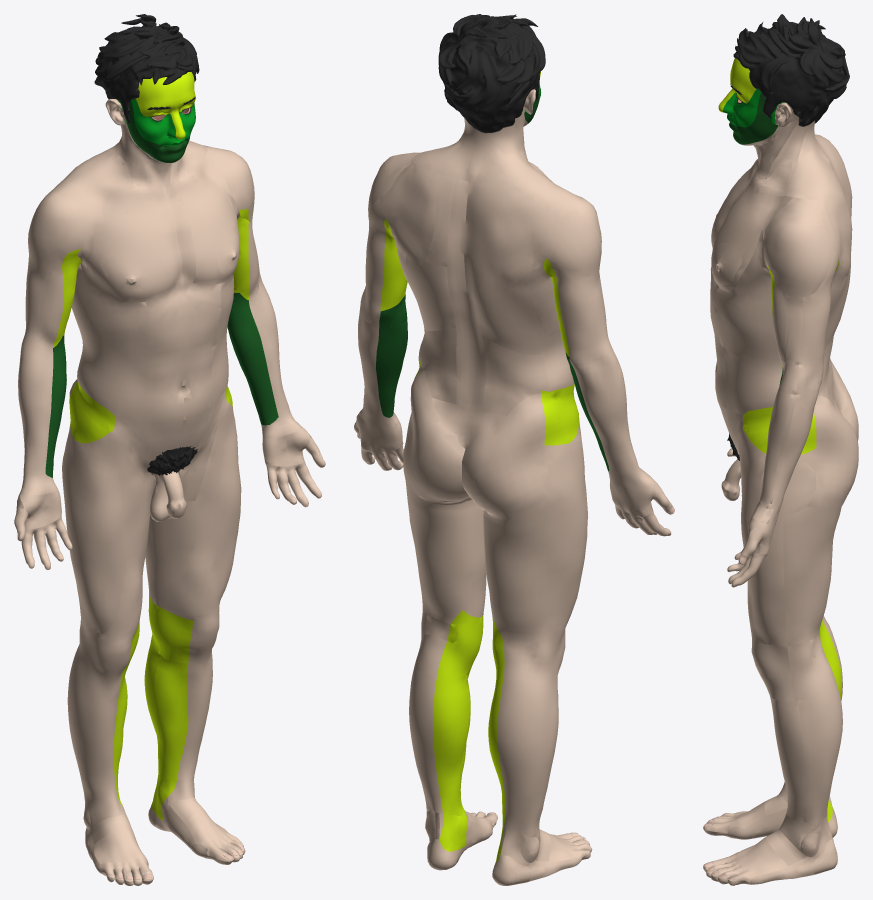
File: regions.glb
3 views of the same model, side by side, from view 1: azimuth 30°, elevation 25°; view 2: azimuth 150°, elevation 25°; view 3: azimuth 270°, elevation 25° (orthographic). The views are drawn at different scales.
Parts seen in each view (by area): view 1: Anterior region of thigh.r, Anterior region of thigh.l, Hairs of head, Anterior region of leg.l, Anterior region of leg.r, Pectoral region.r, Deltoid region.r, Anterior region of forearm.l, Anterior region of forearm.r, Lateral region of thorax.r, Lateral region of abdomen.r, Pectoral region.l (+46 smaller); view 2: Posterior region of thigh.r, Hairs of head, Gluteal region.r, Posterior region of thigh.l, Posterior region of leg.r, Posterior region of leg.l, Gluteal region.l, Scapular region.r, Posterior region of arm.r, Infrascapular region.r, Scapular region.l, Posterior region of forearm.r (+32 smaller); view 3: Hairs of head, Anterior region of thigh.l, Posterior region of thigh.l, Deltoid region.l, Gluteal region.l, Posterior region of leg.l, Lateral region of thorax.l, Anterior region of leg.l, Lateral region of abdomen.l, Pectoral region.l, Posterior region of arm.l, Posterior region of neck.l (+45 smaller).
Part boxes in pixels (<box>): Anterior region of thigh.r: <box>69,382,154,636</box>; Anterior region of thigh.l: <box>150,383,241,615</box>; Hairs of head: <box>94,14,199,123</box>; Anterior region of leg.l: <box>153,654,212,780</box>; Anterior region of leg.r: <box>74,674,127,799</box>; Pectoral region.r: <box>94,205,174,302</box>; Deltoid region.r: <box>28,174,90,271</box>; Anterior region of forearm.l: <box>228,304,292,425</box>; Anterior region of forearm.r: <box>22,360,66,481</box>; Lateral region of thorax.r: <box>71,225,147,333</box>; Lateral region of abdomen.r: <box>77,342,147,422</box>; Pectoral region.l: <box>183,179,238,284</box>; Posterior region of thigh.r: <box>483,496,579,640</box>; Hairs of head: <box>438,14,545,133</box>; Gluteal region.r: <box>462,392,567,518</box>; Posterior region of thigh.l: <box>403,471,485,624</box>; Posterior region of leg.r: <box>488,688,555,830</box>; Posterior region of leg.l: <box>409,667,468,813</box>; Gluteal region.l: <box>403,360,470,501</box>; Scapular region.r: <box>486,191,559,287</box>; Posterior region of arm.r: <box>543,242,606,348</box>; Infrascapular region.r: <box>475,274,545,354</box>; Scapular region.l: <box>379,164,436,266</box>; Posterior region of forearm.r: <box>570,368,640,475</box>; Hairs of head: <box>733,14,849,126</box>; Anterior region of thigh.l: <box>738,407,787,646</box>; Posterior region of thigh.l: <box>783,506,841,645</box>; Deltoid region.l: <box>763,197,834,297</box>; Gluteal region.l: <box>798,395,858,509</box>; Posterior region of leg.l: <box>798,679,842,822</box>; Lateral region of thorax.l: <box>715,229,846,343</box>; Anterior region of leg.l: <box>770,696,806,822</box>; Lateral region of abdomen.l: <box>723,347,782,414</box>; Pectoral region.l: <box>711,197,769,291</box>; Posterior region of arm.l: <box>799,248,839,364</box>; Posterior region of neck.l: <box>784,120,834,199</box>.
Size of the model in its own units: 0.6801 by 1.74 by 0.294.
